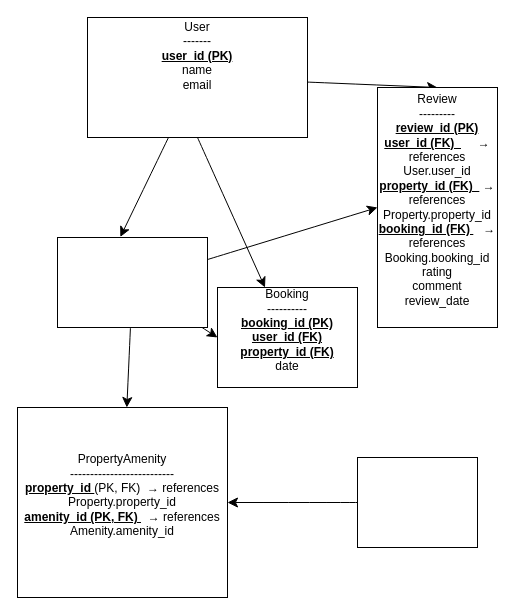
The diagram is 515 pixels wide and 615 high, and some of its shapes have lost their labels. Each missing label, with the centre of its shape:
Amenity --------- amenity_id (PK) name description: the point at 417,502
Property ---------- property_id (PK) owner_id (FK) address: the point at 132,282
